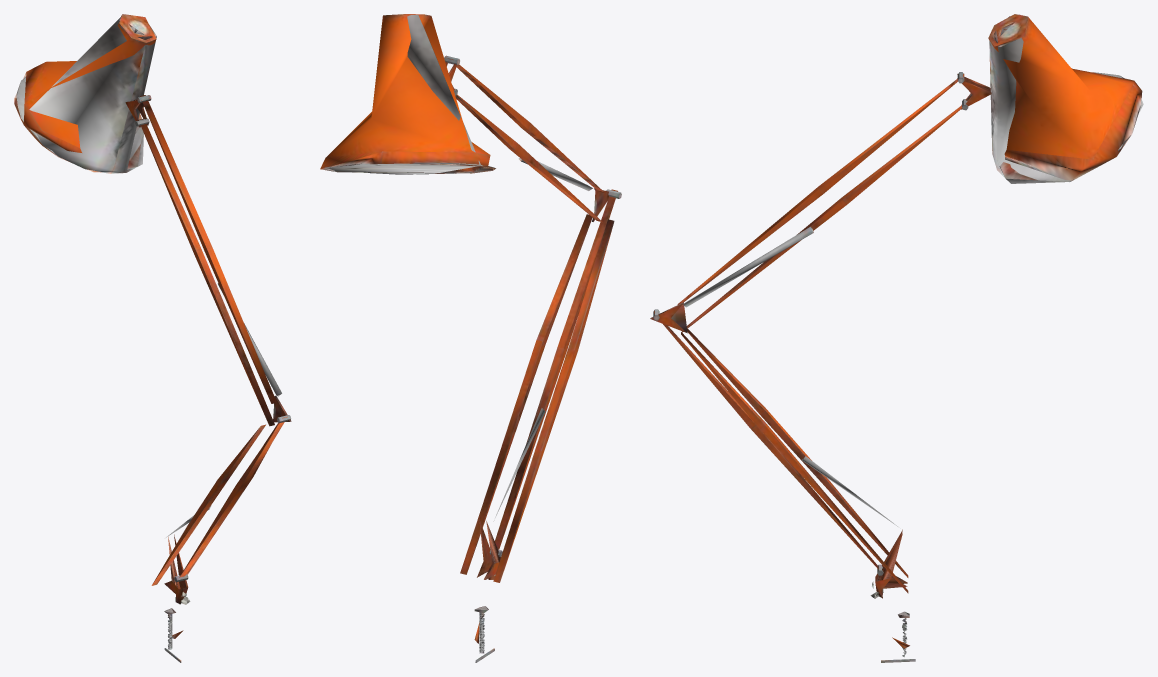
The model's file is desk_lamp_arm_01.glb.
3 views of the same model, side by side, from view 1: azimuth 30°, elevation 25°; view 2: azimuth 150°, elevation 25°; view 3: azimuth 270°, elevation 25° (orthographic). The views are drawn at different scales.
Visible parts, largest first — view 1: desk_lamp_arm_01; view 2: desk_lamp_arm_01; view 3: desk_lamp_arm_01.
Part boxes in pixels (left/top/right/bottom): desk_lamp_arm_01: left=14, top=14, right=291, bottom=662; desk_lamp_arm_01: left=320, top=14, right=621, bottom=662; desk_lamp_arm_01: left=650, top=14, right=1143, bottom=662.
Size of the model in its own units: 0.1964 by 0.891 by 0.6119.
Materials: 2 (2 with a texture image).
